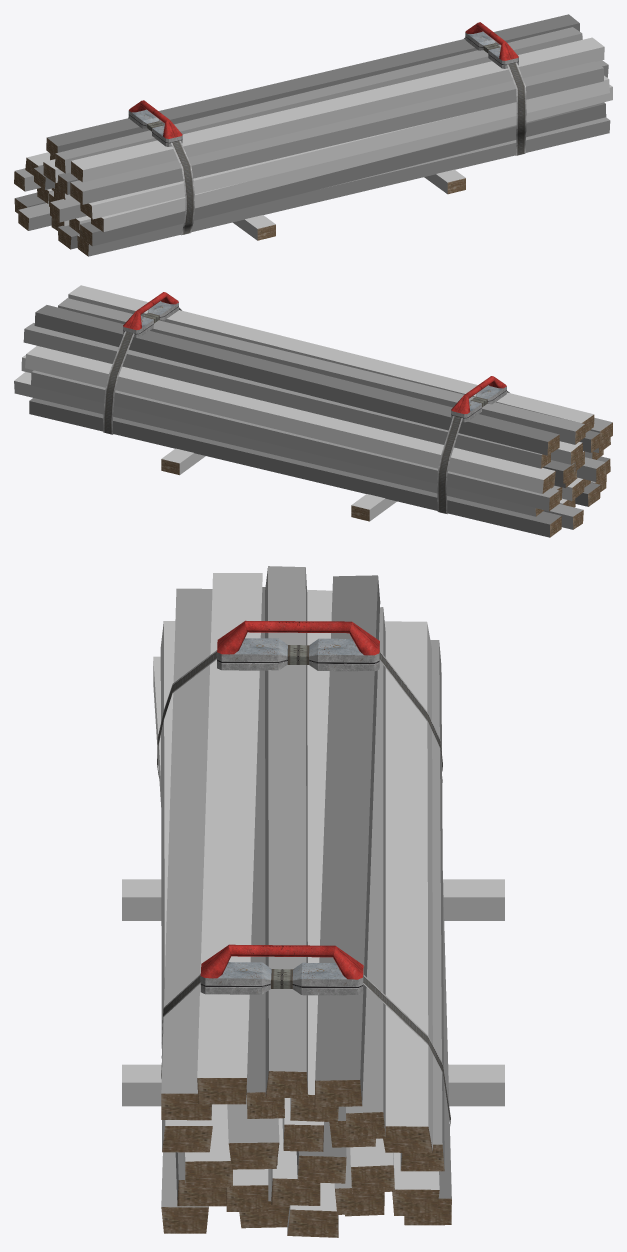
File: Ob_DecorMetalPlanks_RC.fbx
3 views of the same model, one above another, from view 1: azimuth 30°, elevation 25°; view 2: azimuth 150°, elevation 25°; view 3: azimuth 270°, elevation 25° (orthographic). The views are drawn at different scales.
Visible parts, largest first — view 1: Ob_DecorMetalPlanks_RC; view 2: Ob_DecorMetalPlanks_RC; view 3: Ob_DecorMetalPlanks_RC.
Part boxes in pixels (x1,y1,x2,y2): Ob_DecorMetalPlanks_RC: (14,14,612,256); Ob_DecorMetalPlanks_RC: (14,285,612,537); Ob_DecorMetalPlanks_RC: (122,566,504,1237).
Bounding box in the file's own units: 1044 × 203 × 314.
